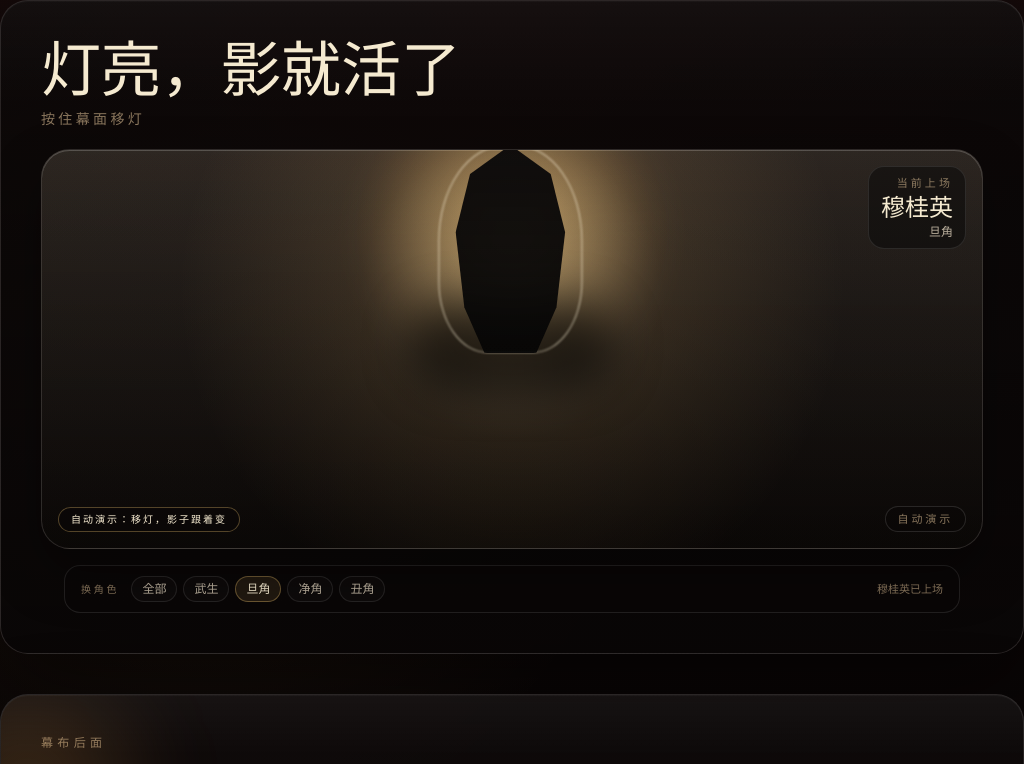
Test case: LightShadowPage › switches the on-stage actor when selecting another role
Expected: the text with test id "stage-actor-name" reads "穆桂英", 881,194 -> 953,220
Click the button "净角". click: (310, 589)
box: 288,576 -> 334,602
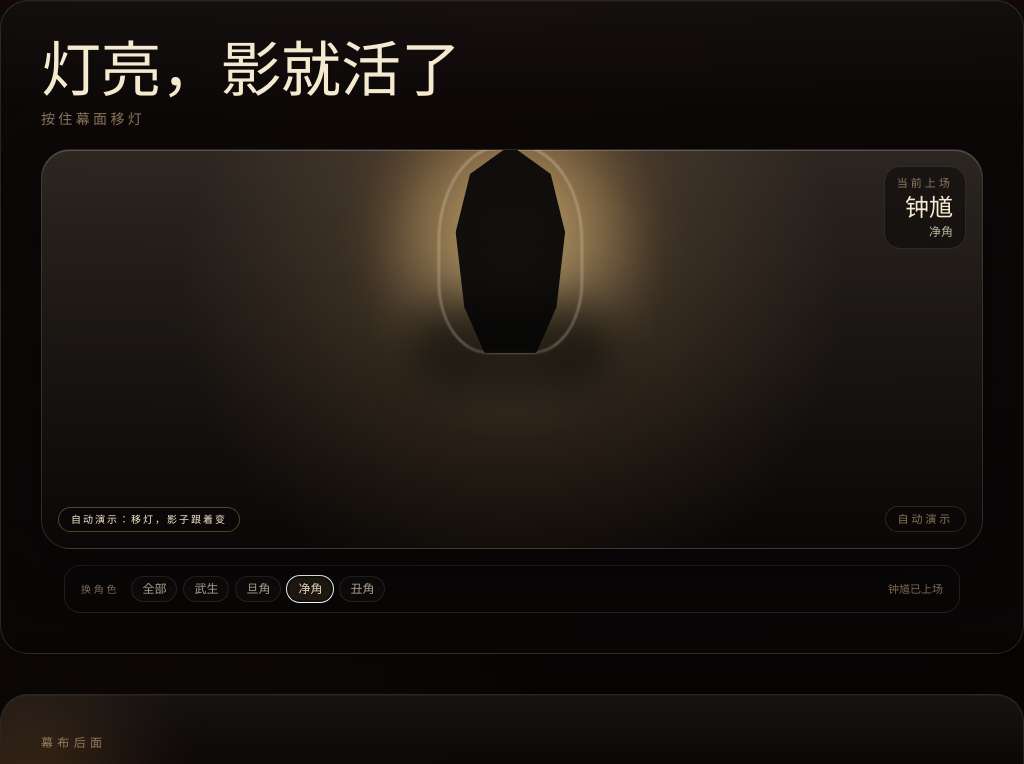
Now the text with test id "stage-actor-name" reads "钟馗", box 905,194 -> 953,220
Now the text with test id "on-stage-announcer" reads "钟馗已上场", box 888,581 -> 943,597
